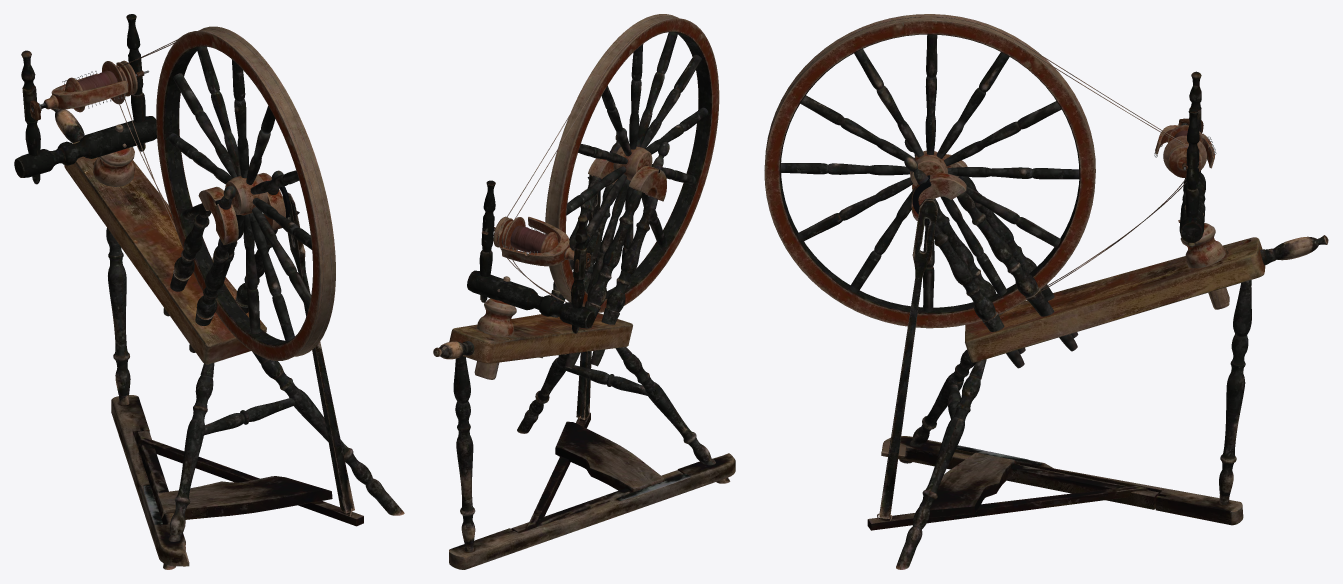
Rendered from spinning_wheel_01.glb.
The picture shows the model from 3 angles, left to right: view 1: azimuth 30°, elevation 25°; view 2: azimuth 150°, elevation 25°; view 3: azimuth 270°, elevation 25°; orthographic projection. The views are drawn at different scales.
Parts seen in each view (by area): view 1: spinning_wheel_01; view 2: spinning_wheel_01; view 3: spinning_wheel_01.
Part boxes in pixels (bbox=[...]): spinning_wheel_01: bbox=[14, 14, 404, 569]; spinning_wheel_01: bbox=[433, 14, 735, 569]; spinning_wheel_01: bbox=[764, 14, 1328, 569].
Bounding box in the file's own units: 0.4894 × 0.9662 × 1.02.
Materials: 1 (1 with a texture image).
